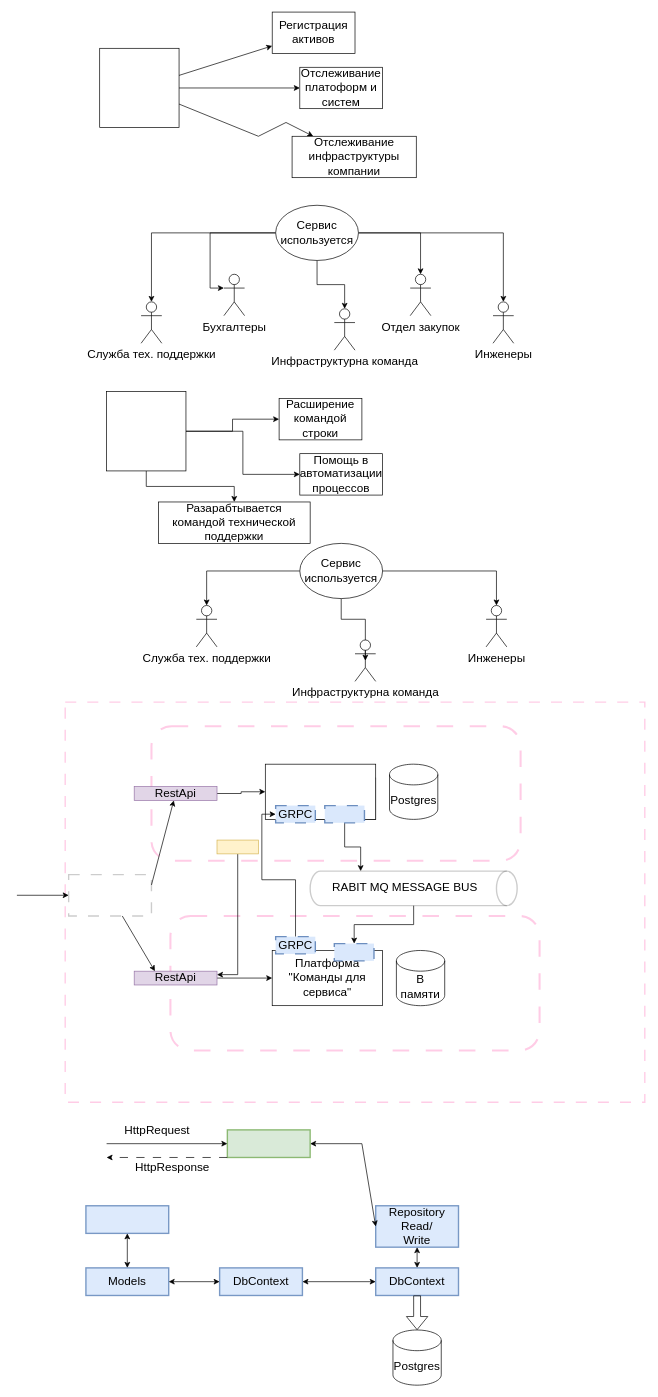
Some shapes in this 658 by 1397 pixel diagram are drawn without their labels. Here are the shapes that lost their labels. From the top down, the centre of each, then its label:
At (x=139, y=88): "PLATFORM SERVICE".
At (x=146, y=431): "Command Service".
At (x=320, y=791): "Сервис платформа".
At (x=344, y=814): "pub.".
At (x=237, y=846): "HTTP".
At (x=110, y=895): "API ШЛЮЗ".
At (x=353, y=952): "Sub.".
At (x=268, y=1143): "Controller".
At (x=127, y=1219): "DTOS".
